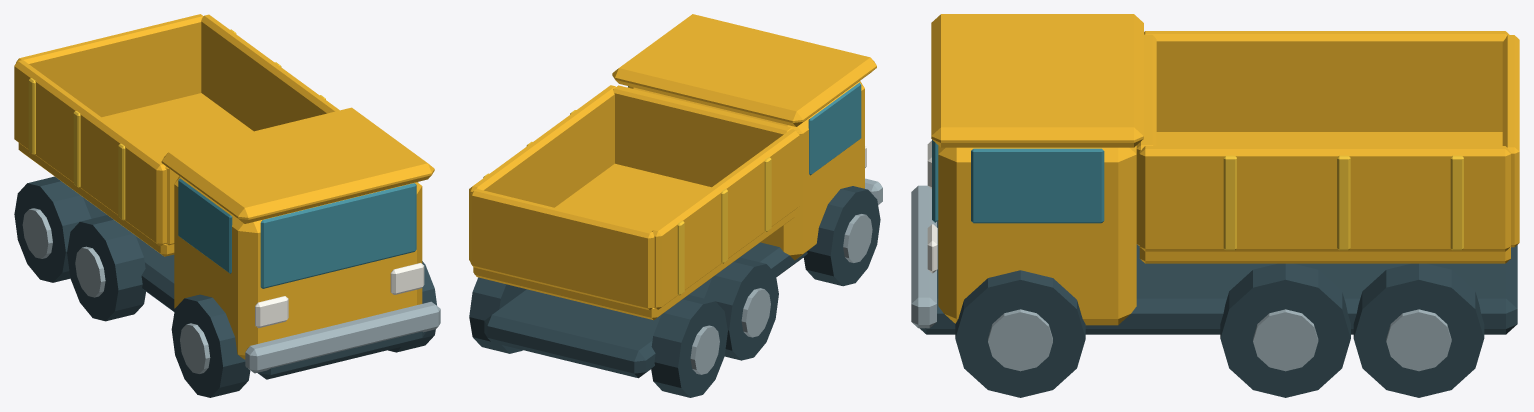
Rendered from dumptruck.glb.
3 views of the same model, side by side, from view 1: azimuth 30°, elevation 25°; view 2: azimuth 150°, elevation 25°; view 3: azimuth 270°, elevation 25° (orthographic). The views are drawn at different scales.
Parts seen in each view (by area): view 1: DumpChassis, TipperBody, TailgatePanel; view 2: DumpChassis, TipperBody, TailgatePanel; view 3: DumpChassis, TipperBody, TailgatePanel.
Part boxes in pixels (x1,y1,x2,y2): DumpChassis: (14, 107, 440, 397); TipperBody: (14, 14, 339, 256); TailgatePanel: (16, 14, 203, 117); DumpChassis: (469, 14, 882, 397); TipperBody: (469, 85, 799, 320); TailgatePanel: (470, 189, 654, 310); DumpChassis: (911, 14, 1517, 397); TipperBody: (1136, 31, 1510, 263); TailgatePanel: (1502, 35, 1519, 247).
Bounding box in the file's own units: 2.32 × 2.03 × 4.29.
